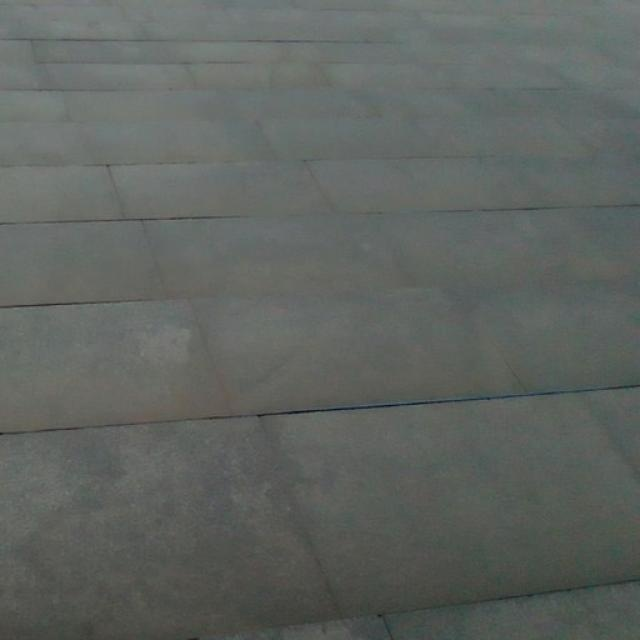stair: (25, 95, 612, 612)
